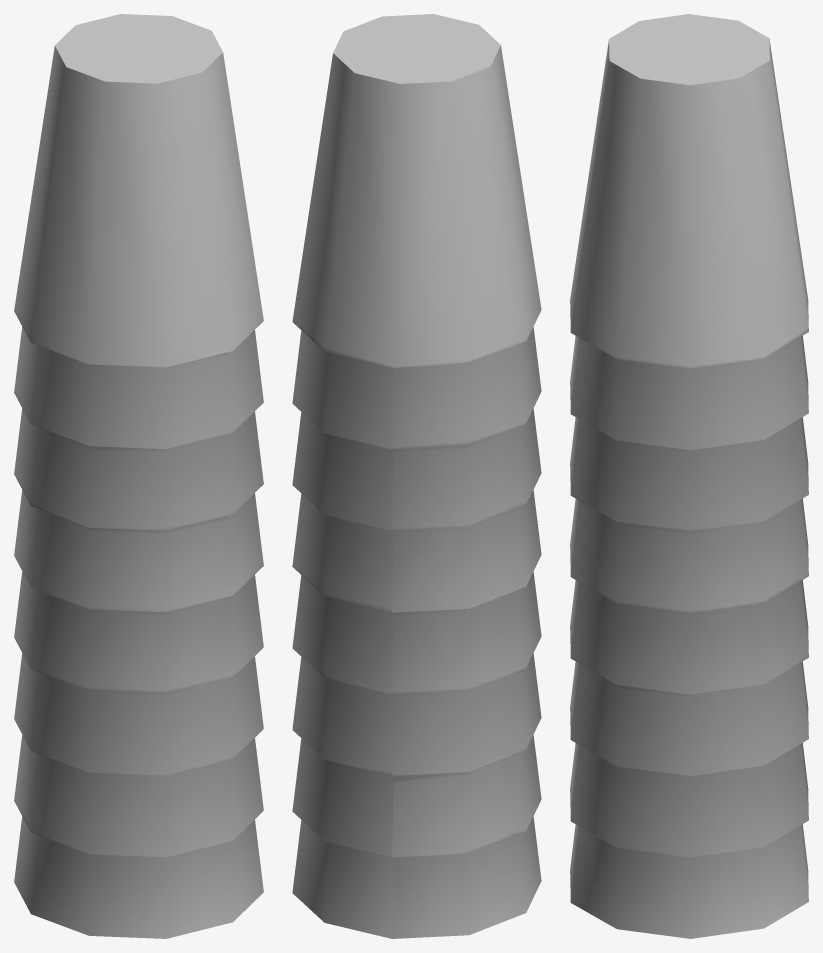
Rendered from Cups.fbx.
3 renders of one model, left to right at view 1: azimuth 30°, elevation 25°; view 2: azimuth 150°, elevation 25°; view 3: azimuth 270°, elevation 25°, orthographic.
Visible parts, largest first — view 1: pCylinder1; view 2: pCylinder1; view 3: pCylinder1.
Part boxes in pixels (x1=…): pCylinder1: x1=14, y1=14, x2=263, y2=938; pCylinder1: x1=292, y1=14, x2=541, y2=938; pCylinder1: x1=570, y1=14, x2=808, y2=938.
Size of the model in its own units: 0.6965 by 2.57 by 0.6646.
Materials: 1 (1 with a texture image).
